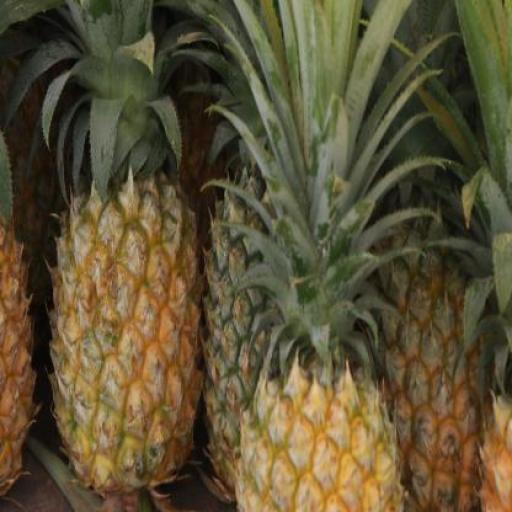------------------------------: (51, 176, 195, 482)
Pineapple - v8 v1: (236, 348, 402, 512)
